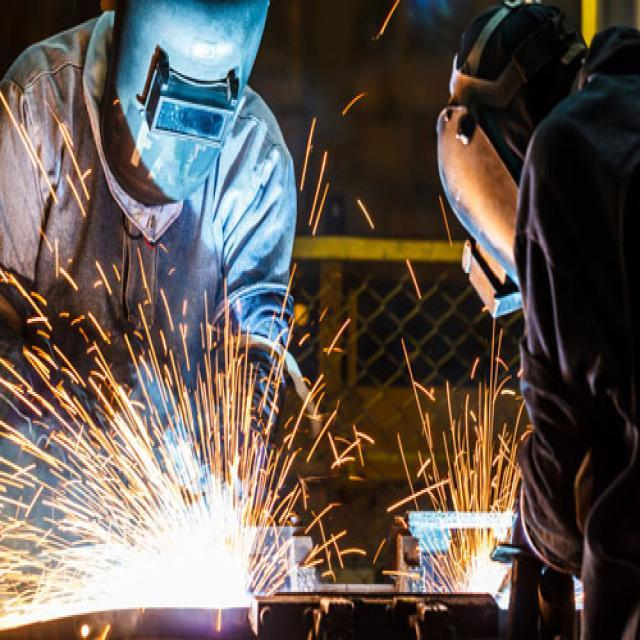with_helmet: (437, 0, 585, 316), (102, 0, 268, 205)
